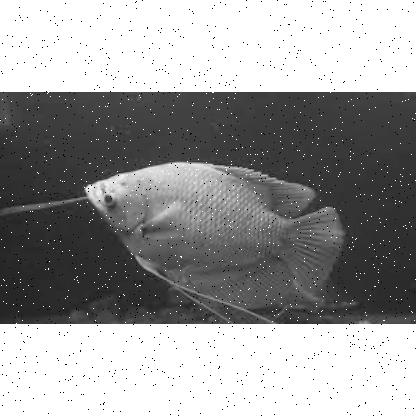gurame: (83, 159, 338, 303)
